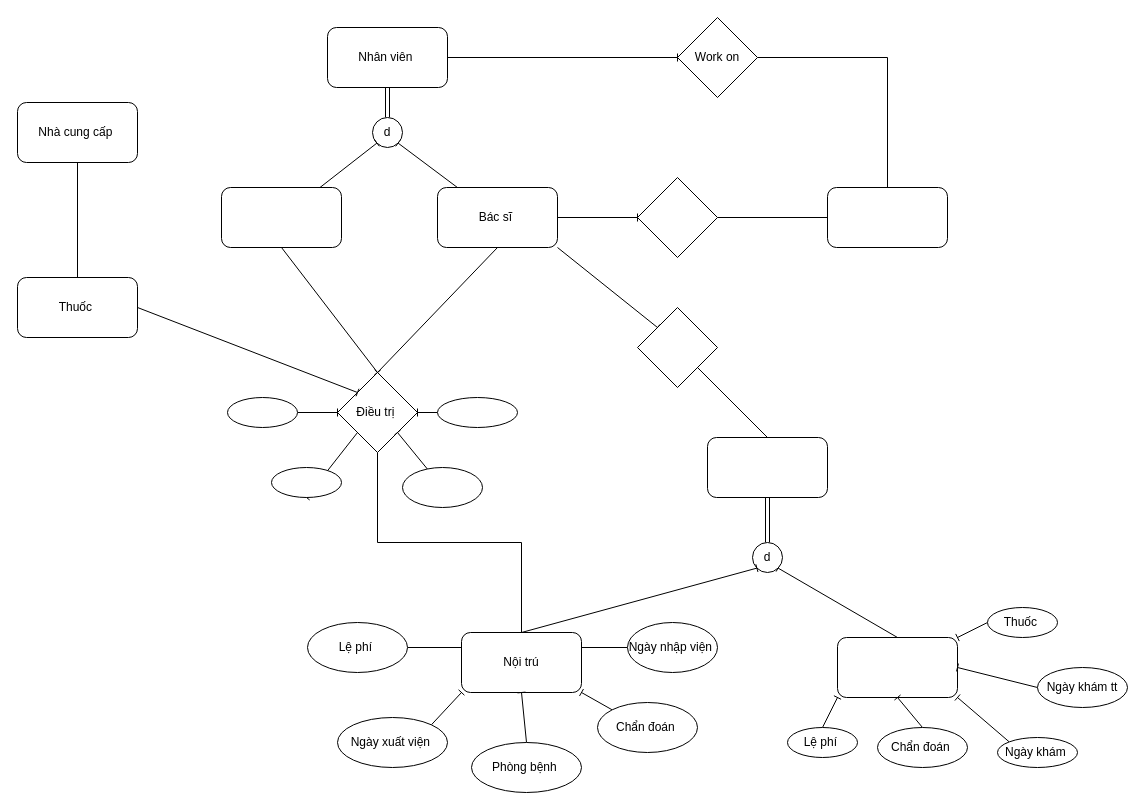
Image size: 1145x810. Some labels were removed from this diagram. The shapes that lost their labels are listed below. From the top down, each one's box as (x1, y1, x2, y2) in pixels, then its label:
(220, 186, 342, 248): Y tá
(636, 176, 718, 258): Trưởng Khoa
(826, 186, 948, 248): Khoa
(636, 306, 718, 388): Khám
(226, 396, 298, 428): Kết quả
(436, 396, 518, 428): Xác nhận BS
(270, 466, 342, 498): Ngày BD
(402, 466, 482, 508): Ngày kt
(706, 436, 828, 498): Người bệnh
(836, 636, 958, 698): Ngoại trú
